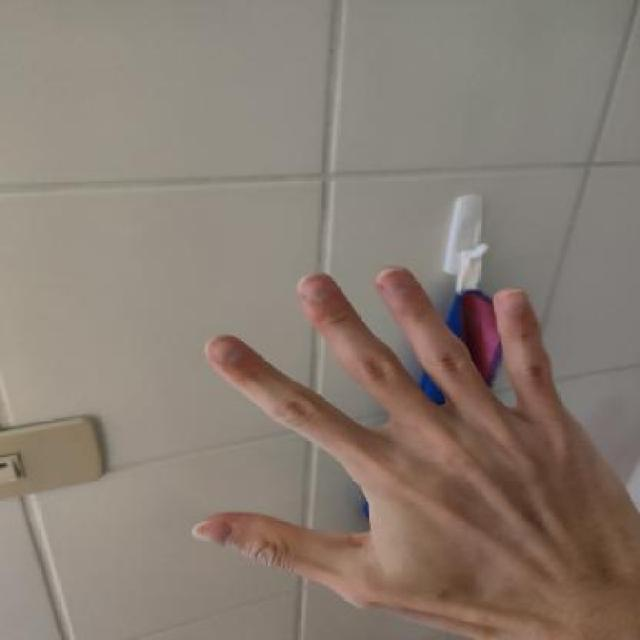bare_hand: (163, 241, 640, 640)
